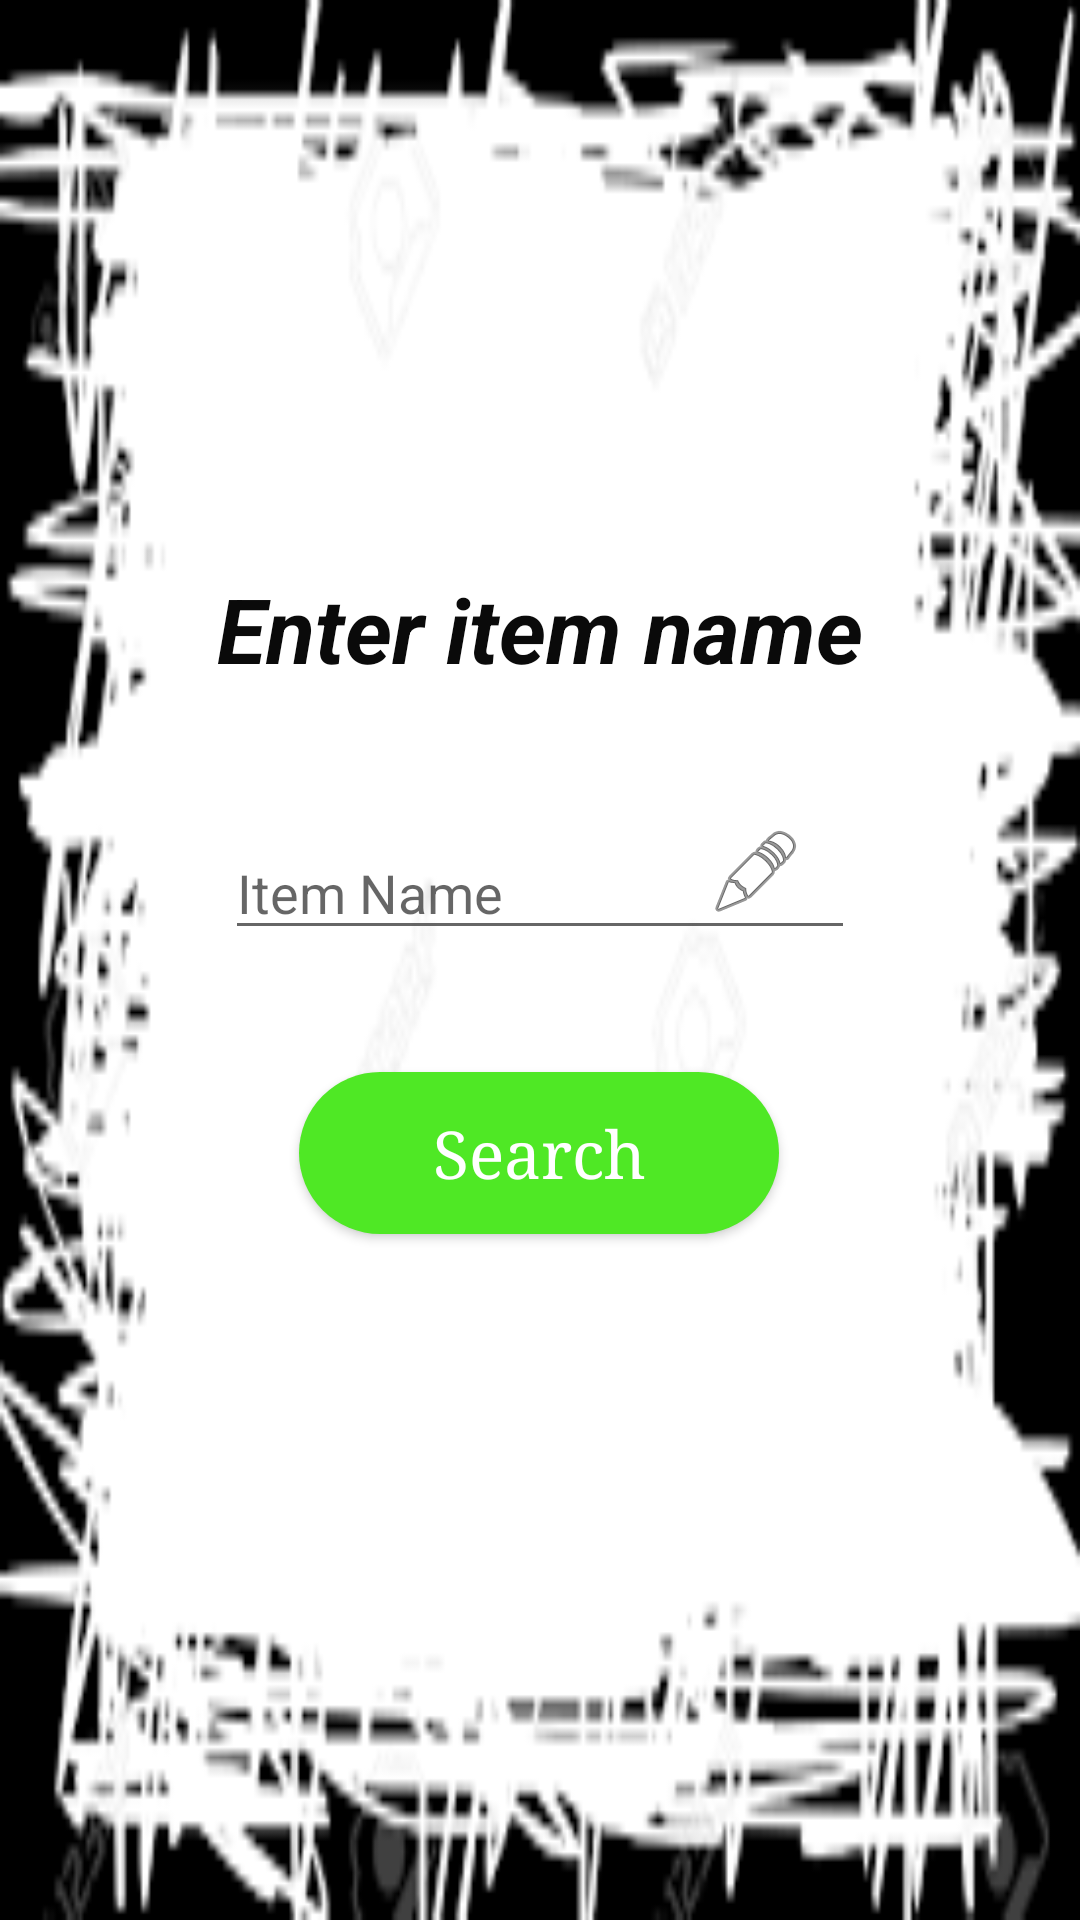

Locate icon controls on the screen. Image size 1080x1920, boxes as detection(x1, y1, x2, y2).
edit: detection(715, 831, 796, 912)
